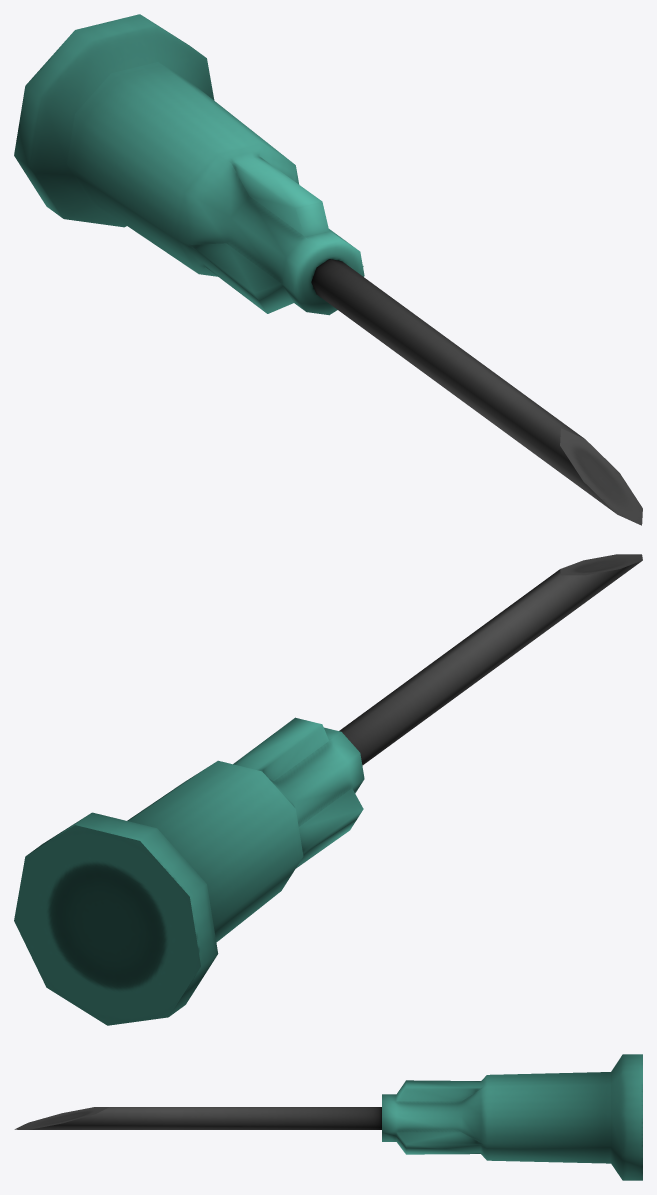
File: needleV2.fbx
3 renders of one model, top to bottom at view 1: azimuth 30°, elevation 25°; view 2: azimuth 150°, elevation 25°; view 3: azimuth 270°, elevation 25°, orthographic. The views are drawn at different scales.
Parts seen in each view (by area): view 1: needleV2; view 2: needleV2; view 3: needleV2.
Part boxes in pixels (left/top/right/bottom): needleV2: left=14, top=14, right=642, bottom=525; needleV2: left=14, top=554, right=642, bottom=1025; needleV2: left=14, top=1054, right=642, bottom=1180.
Bounding box in the file's own units: 0.3731 × 0.3674 × 1.85.
